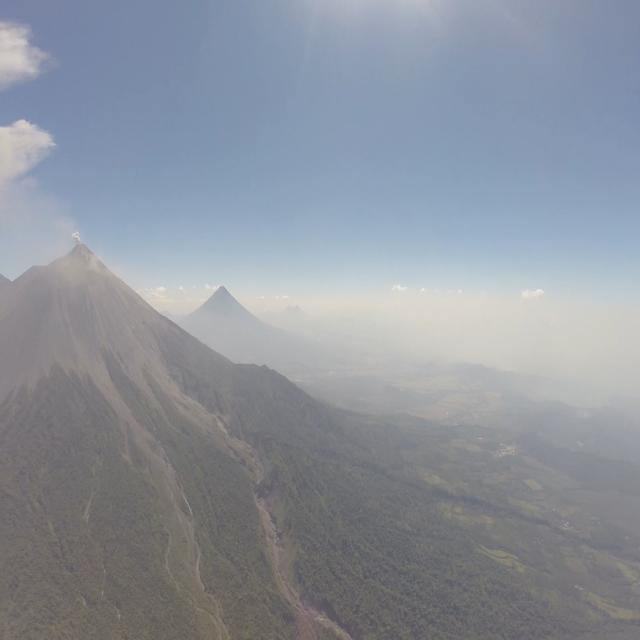Plume: (0, 118, 57, 193), (0, 22, 58, 93), (71, 230, 81, 243)
Summit: (64, 241, 100, 261)
